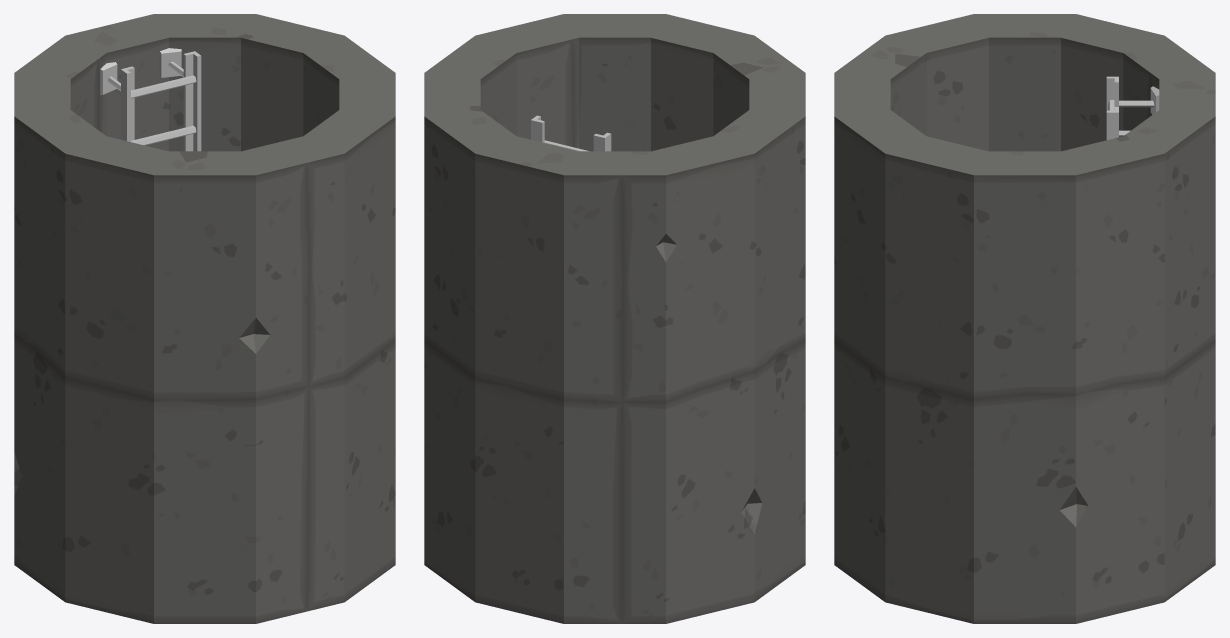
File: SM_Bld_Prison_Tower_Middle_01.fbx
3 renders of one model, left to right at view 1: azimuth 30°, elevation 25°; view 2: azimuth 150°, elevation 25°; view 3: azimuth 270°, elevation 25°, orthographic.
Parts seen in each view (by area): view 1: SM_Bld_Prison_Tower_Middle_01; view 2: SM_Bld_Prison_Tower_Middle_01; view 3: SM_Bld_Prison_Tower_Middle_01.
Part boxes in pixels (<box>): SM_Bld_Prison_Tower_Middle_01: <box>14,14,395,623</box>; SM_Bld_Prison_Tower_Middle_01: <box>424,14,805,623</box>; SM_Bld_Prison_Tower_Middle_01: <box>834,14,1215,623</box>.
Bounding box in the file's own units: 231 × 300 × 231.
